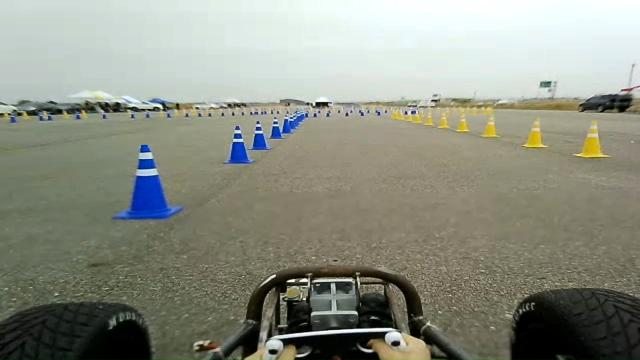blue cone: (112, 143, 183, 220), (222, 125, 255, 164), (249, 120, 271, 150), (268, 116, 284, 139), (281, 116, 292, 134), (292, 112, 306, 126), (10, 115, 18, 123), (38, 114, 44, 121), (46, 114, 52, 121)
yellow cone: (572, 120, 611, 158), (520, 117, 548, 148), (480, 116, 500, 137), (454, 117, 470, 132), (436, 114, 449, 128), (422, 114, 433, 126), (412, 112, 422, 123), (406, 111, 414, 122), (391, 108, 398, 120), (22, 110, 29, 120), (3, 112, 10, 120)
